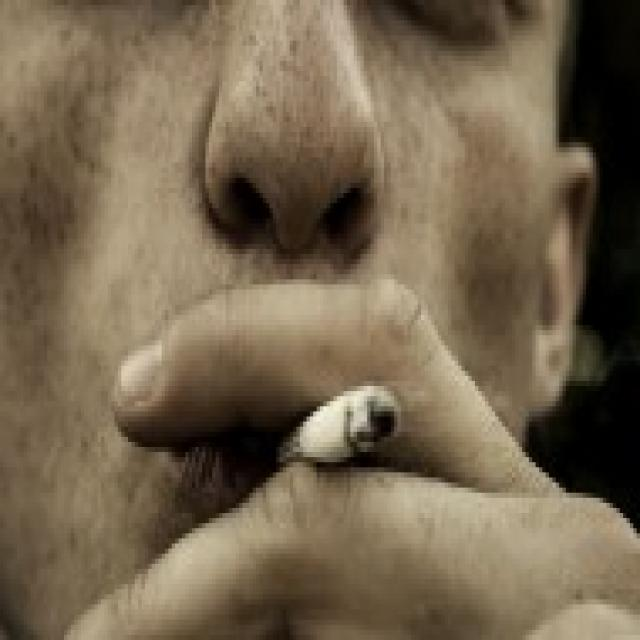smoking: (257, 356, 423, 499)
